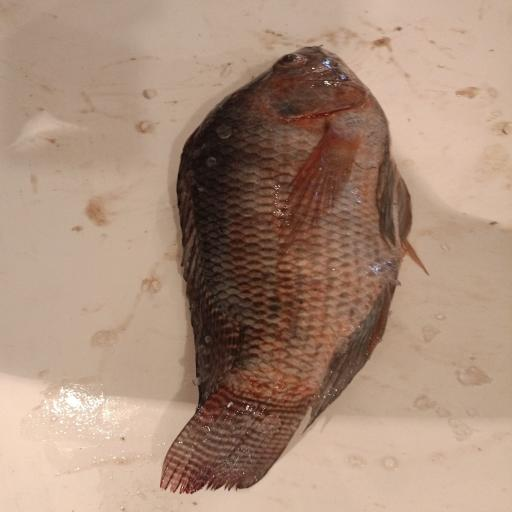Tilapia: (160, 45, 431, 494)
